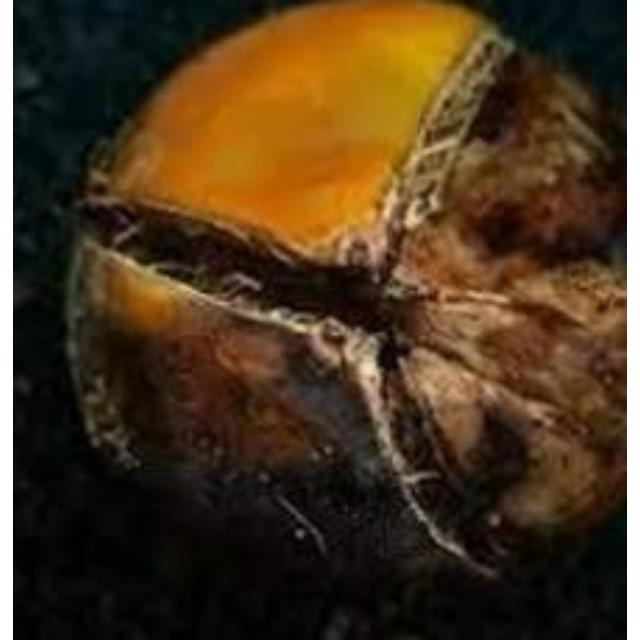damaged: (66, 0, 625, 576)
